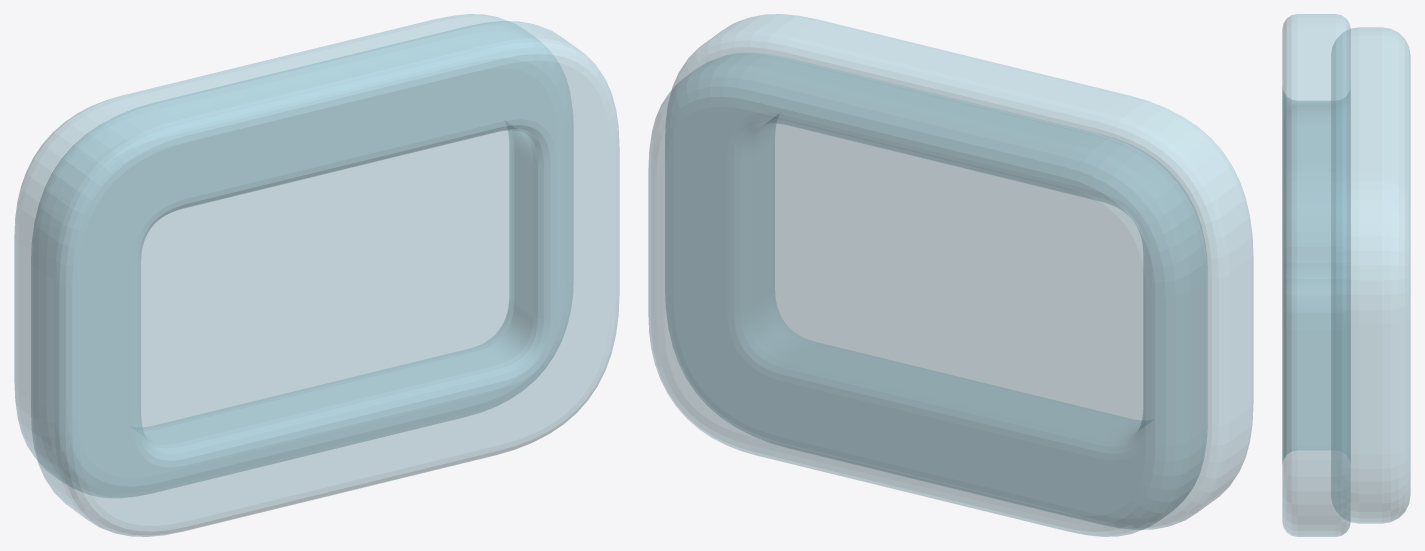
The picture shows the model from 3 angles, left to right: view 1: azimuth 30°, elevation 25°; view 2: azimuth 150°, elevation 25°; view 3: azimuth 270°, elevation 25°; orthographic projection. The views are drawn at different scales.
Visible parts, largest first — view 1: gel-body, rolled-perimeter; view 2: gel-body, rolled-perimeter; view 3: gel-body, rolled-perimeter.
Boxes of the visible parts, <box> form: gel-body: <box>14,14,573,497</box>; rolled-perimeter: <box>31,21,619,536</box>; gel-body: <box>648,53,1207,536</box>; rolled-perimeter: <box>665,14,1253,529</box>; gel-body: <box>1331,27,1410,523</box>; rolled-perimeter: <box>1282,14,1350,536</box>.
Bounding box in the file's own units: 1.99 × 1.39 × 0.45.
